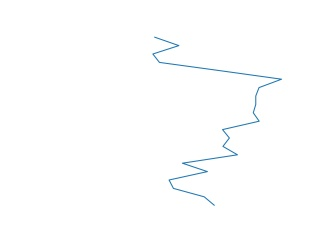floodPlain: (150, 33, 284, 208)
